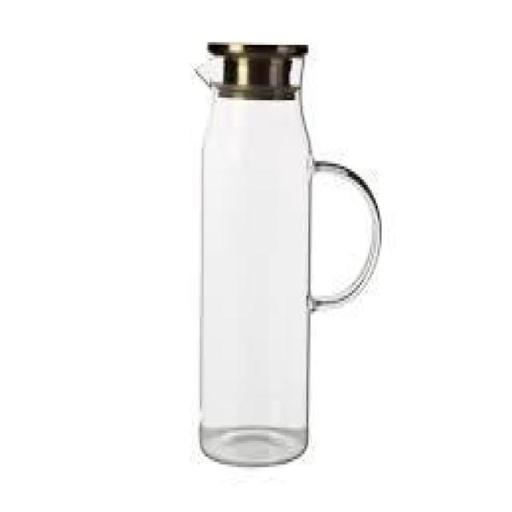glass: (180, 17, 388, 483)
